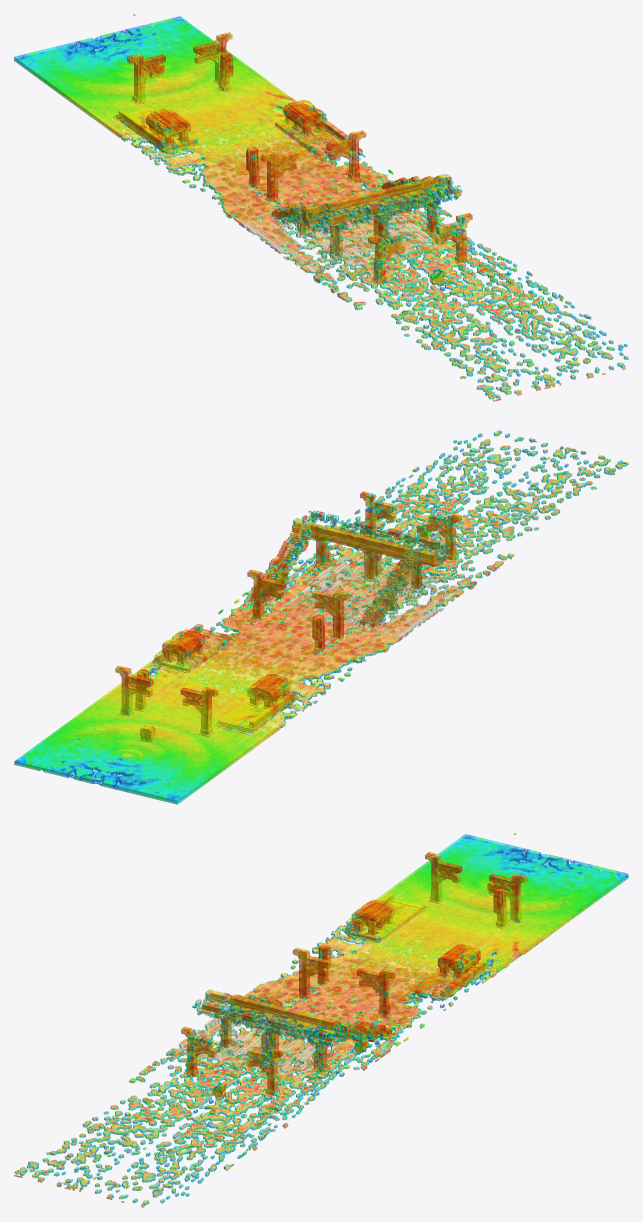
Rendered from railroad_out.glb.
3 renders of one model, top to bottom at view 1: azimuth 30°, elevation 25°; view 2: azimuth 150°, elevation 25°; view 3: azimuth 330°, elevation 25°, orthographic. The views are drawn at different scales.
Parts seen in each view (by area): view 1: chunk:1, chunk:3, chunk:2, chunk:0, chunk:4, chunk:5, chunk:9, chunk:10, chunk:8, chunk:7, chunk:11, chunk:12 (+1 smaller); view 2: chunk:3, chunk:1, chunk:2, chunk:0, chunk:4, chunk:5, chunk:10, chunk:8, chunk:7, chunk:9, chunk:12, chunk:11 (+1 smaller); view 3: chunk:1, chunk:0, chunk:2, chunk:4, chunk:3, chunk:5, chunk:10, chunk:8, chunk:9, chunk:7, chunk:11, chunk:12 (+1 smaller).
Part boxes in pixels (left/top/right/bottom): chunk:1: left=89, top=35, right=292, bottom=165; chunk:3: left=238, top=181, right=441, bottom=277; chunk:2: left=166, top=130, right=367, bottom=222; chunk:0: left=14, top=25, right=216, bottom=115; chunk:4: left=313, top=214, right=517, bottom=327; chunk:5: left=401, top=299, right=592, bottom=382; chunk:9: left=293, top=107, right=393, bottom=191; chunk:10: left=368, top=174, right=468, bottom=244; chunk:8: left=220, top=32, right=318, bottom=134; chunk:7: left=144, top=16, right=254, bottom=81; chunk:11: left=443, top=213, right=547, bottom=298; chunk:12: left=518, top=292, right=627, bottom=357; chunk:3: left=271, top=515, right=470, bottom=642; chunk:1: left=124, top=658, right=317, bottom=750; chunk:2: left=198, top=571, right=397, bottom=695; chunk:0: left=50, top=716, right=250, bottom=804; chunk:4: left=344, top=492, right=529, bottom=589; chunk:5: left=417, top=448, right=600, bottom=530; chunk:10: left=234, top=510, right=343, bottom=610; chunk:8: left=88, top=635, right=197, bottom=718; chunk:7: left=14, top=707, right=123, bottom=773; chunk:9: left=172, top=569, right=269, bottom=663; chunk:12: left=385, top=440, right=489, bottom=501; chunk:11: left=326, top=491, right=416, bottom=557; chunk:1: left=325, top=852, right=517, bottom=970; chunk:0: left=392, top=834, right=591, bottom=920; chunk:2: left=246, top=942, right=442, bottom=1023; chunk:4: left=113, top=1026, right=298, bottom=1134; chunk:3: left=172, top=989, right=363, bottom=1080; chunk:5: left=42, top=1105, right=225, bottom=1186; chunk:10: left=299, top=1017, right=408, bottom=1087; chunk:8: left=447, top=874, right=555, bottom=983; chunk:9: left=376, top=952, right=480, bottom=1034; chunk:7: left=521, top=865, right=628, bottom=930; chunk:11: left=226, top=1050, right=324, bottom=1141; chunk:12: left=152, top=1133, right=257, bottom=1196.
Bounding box in the file's own units: 33 × 9.64 × 161.
Materials: 15 (14 with a texture image).
